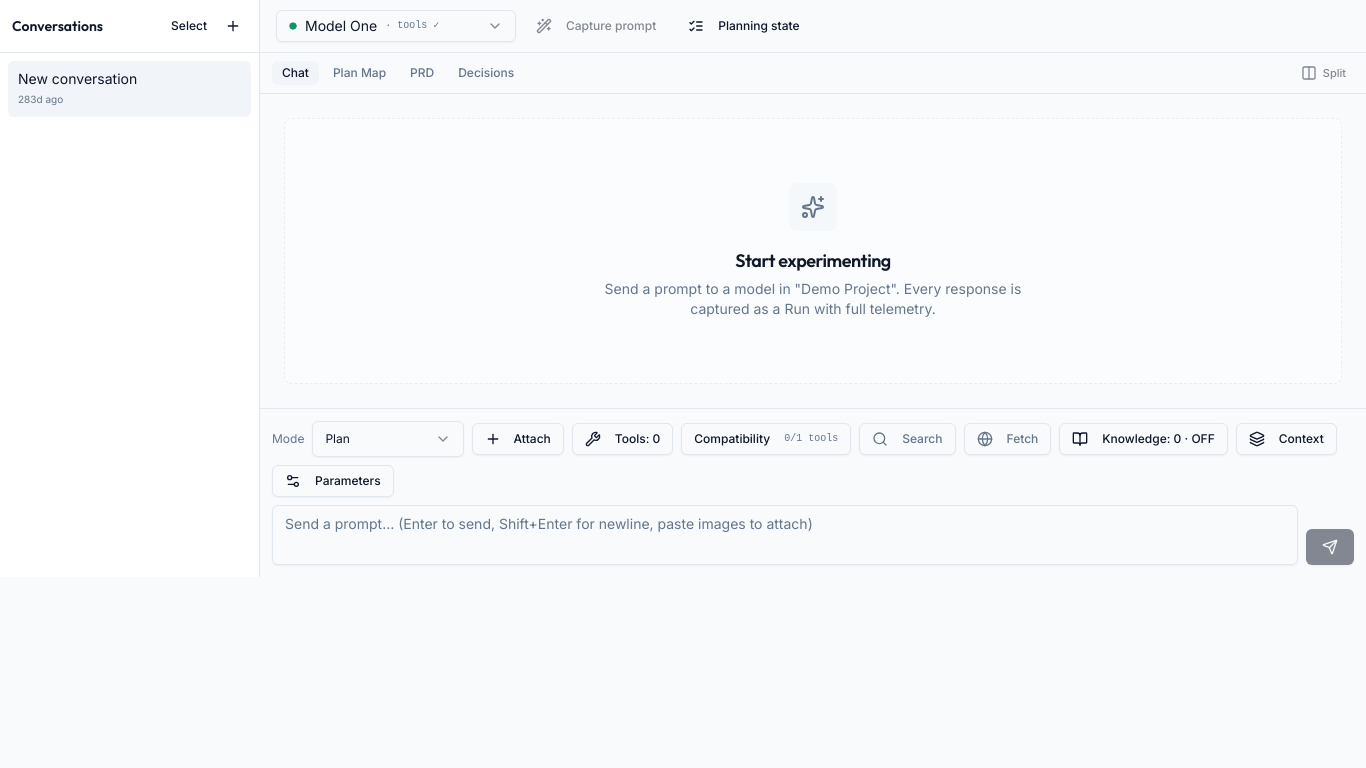
Test: all four modes are offered
What coordinates should you click on to do the following:
click the dropdown with test id "workspace-mode-select"
I would click on:
 (388, 439)
Its box is [312,421,464,457].
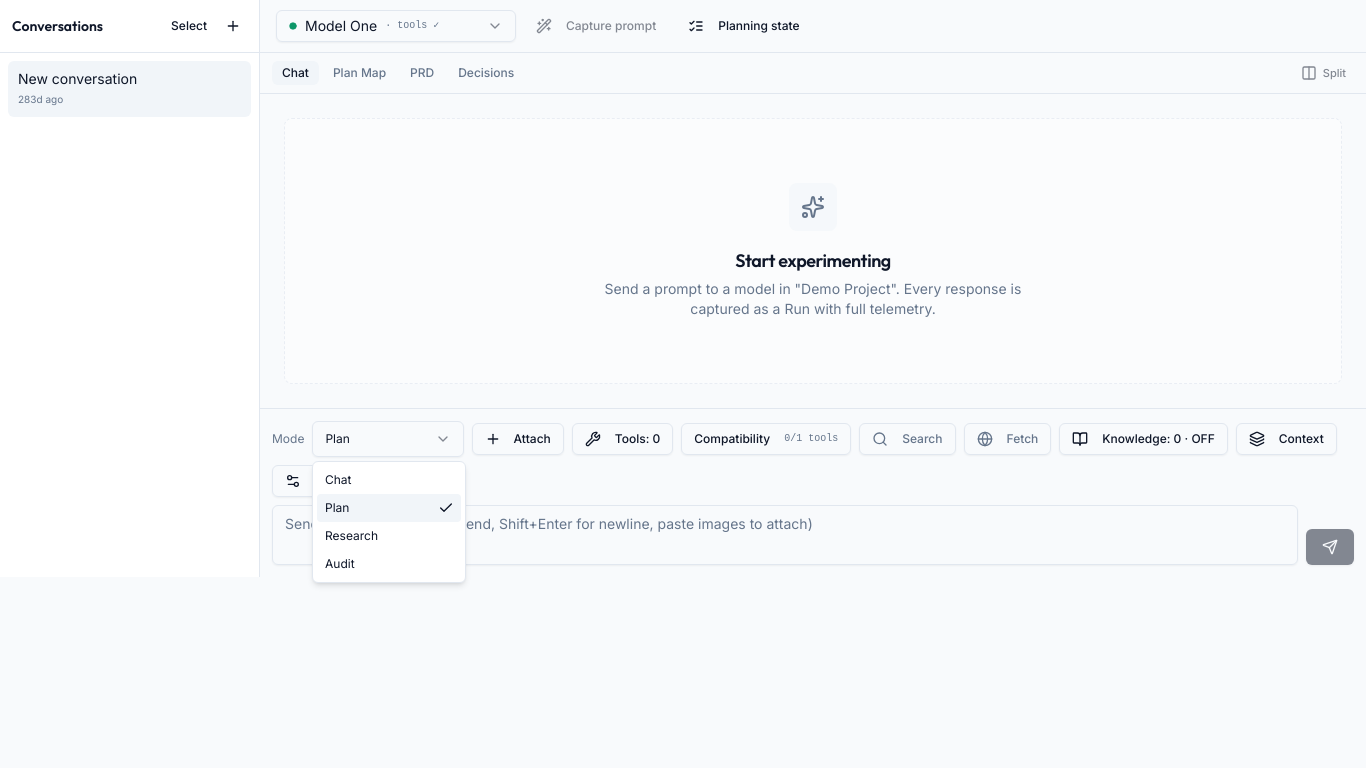
Now the option with test id "workspace-mode-option-audit" is shown, box [325,556,355,571]
